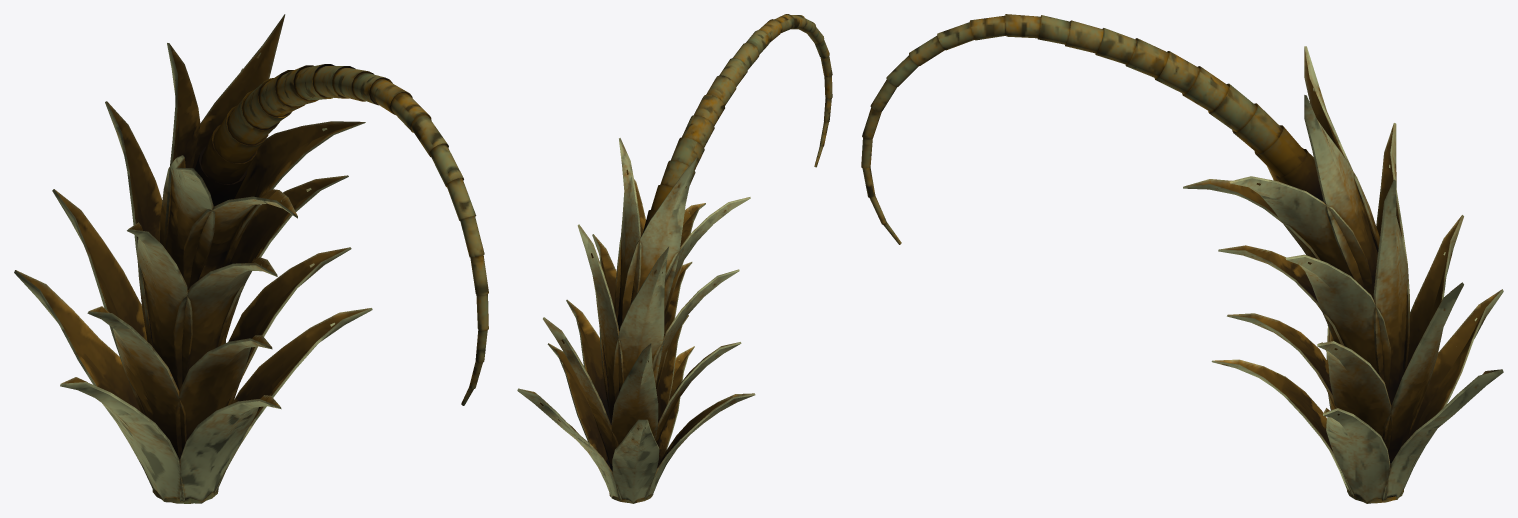
File: Plant 3.fbx
3 views of the same model, side by side, from view 1: azimuth 30°, elevation 25°; view 2: azimuth 150°, elevation 25°; view 3: azimuth 270°, elevation 25° (orthographic). The views are drawn at different scales.
Visible parts, largest first — view 1: Cylinder; view 2: Cylinder; view 3: Cylinder.
Part boxes in pixels (x1=…): Cylinder: x1=14, y1=14, x2=488, y2=503; Cylinder: x1=517, y1=14, x2=832, y2=503; Cylinder: x1=861, y1=14, x2=1503, y2=503.
Size of the model in its own units: 293 by 500 by 609.
